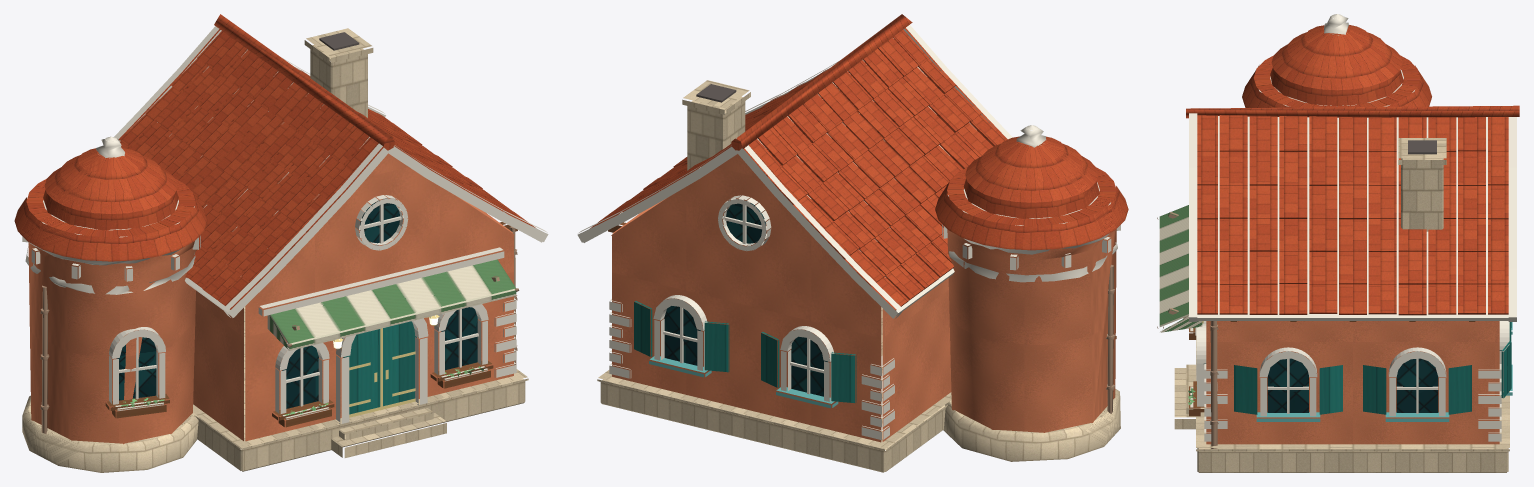
Rendered from market-coral.glb.
3 renders of one model, left to right at view 1: azimuth 30°, elevation 25°; view 2: azimuth 150°, elevation 25°; view 3: azimuth 270°, elevation 25°, orthographic.
Parts seen in each view (by area): view 1: market-coral; view 2: market-coral; view 3: market-coral.
Part boxes in pixels (x1=…): market-coral: x1=14, y1=14, x2=548, y2=472; market-coral: x1=577, y1=14, x2=1128, y2=472; market-coral: x1=1157, y1=14, x2=1519, y2=472.
Size of the model in its own units: 10.22 by 6.66 by 7.3.
14 materials, 7 textured.
